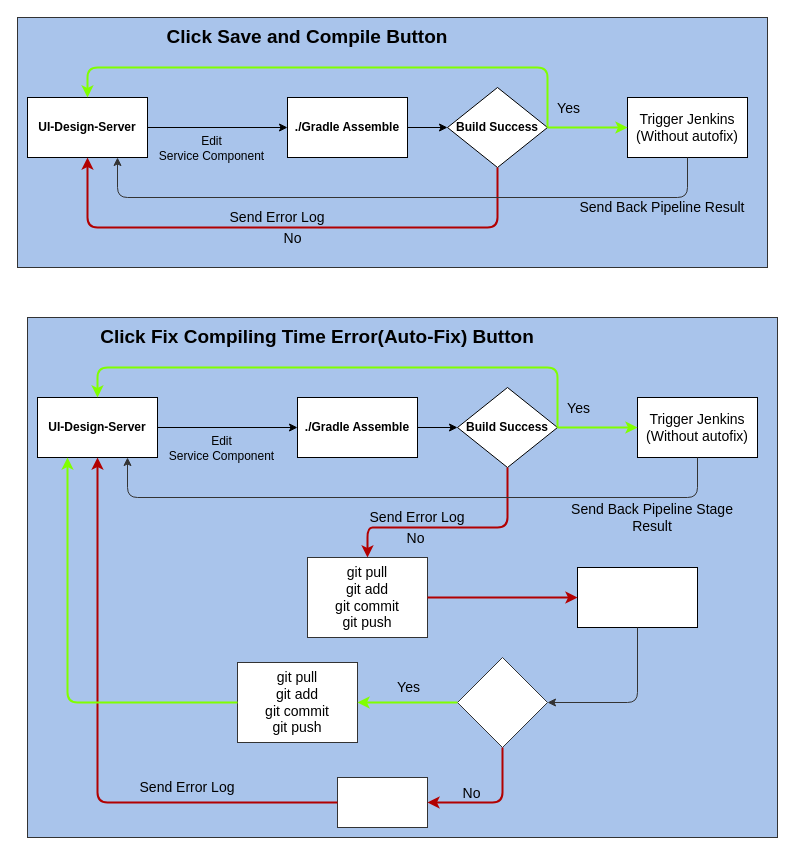
The diagram is 795 pixels wide and 855 high, and some of its shapes have lost their labels. The shapes that lost their labels are listed below. From the top down, each one's centre as x and y in pixels, then its label:
At point (637, 597): "Trigger Jenkins (with autofix)".
At point (502, 702): "Auto-Fix Success".
At point (382, 802): "git reset git push".
